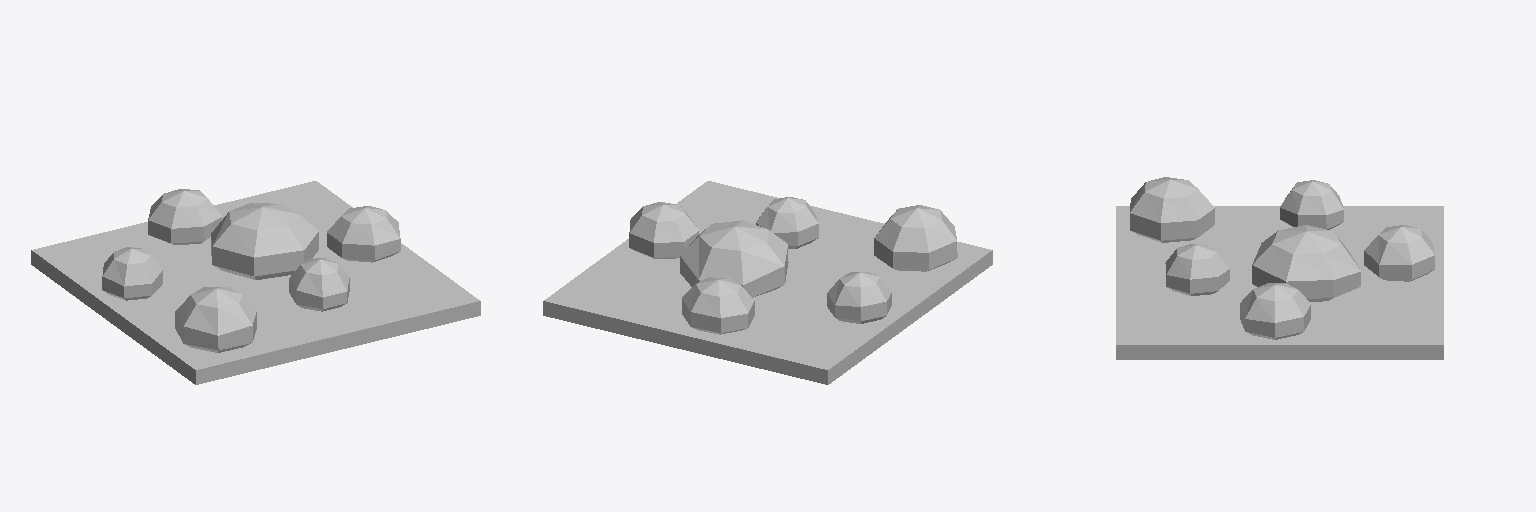
File: park_base_decorated_bushes.obj
The picture shows the model from 3 angles: view 1: azimuth 30°, elevation 25°; view 2: azimuth 150°, elevation 25°; view 3: azimuth 270°, elevation 25°; orthographic projection.
Visible parts, largest first — view 1: park_base_decorated_bushes_Cube.14203; view 2: park_base_decorated_bushes_Cube.14203; view 3: park_base_decorated_bushes_Cube.14203.
Boxes of the visible parts, <box> form: park_base_decorated_bushes_Cube.14203: <box>31,181,480,384</box>; park_base_decorated_bushes_Cube.14203: <box>543,181,992,384</box>; park_base_decorated_bushes_Cube.14203: <box>1116,177,1443,359</box>.
Size of the model in its own units: 2 by 0.4617 by 2.